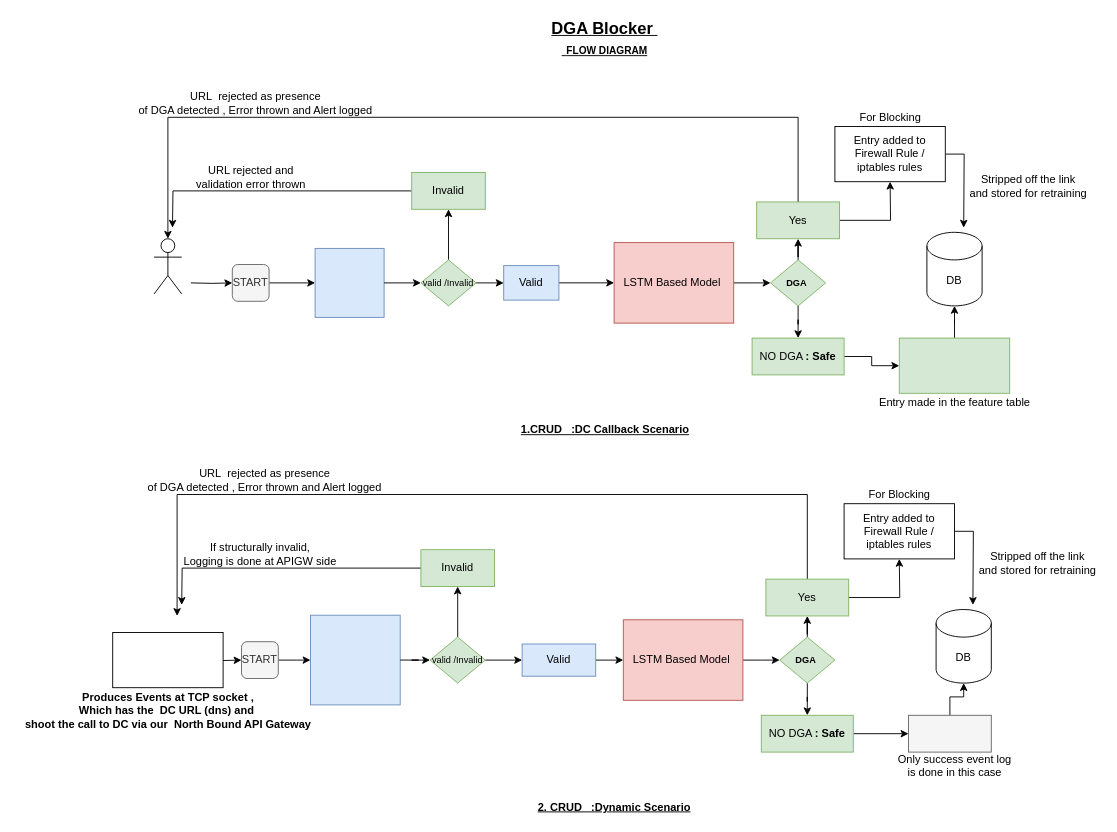
Image size: 1117x832. Some labels were removed from this diagram. The centre of each missing label's shape, as x and y in pixels:
"APIGW proceeds" belongs at (949,733).
"CRUD operation success" belongs at (954,365).
"DNS Querying is done at the network Interface UDP53" belongs at (355,659).
"HSS/HLR" belongs at (167,660).
"MNO Admin" belongs at (167,266).
"URL structural Validation is done" belongs at (349,282).
